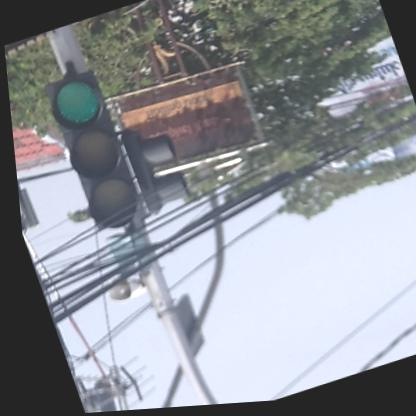green: (39, 66, 144, 236)
